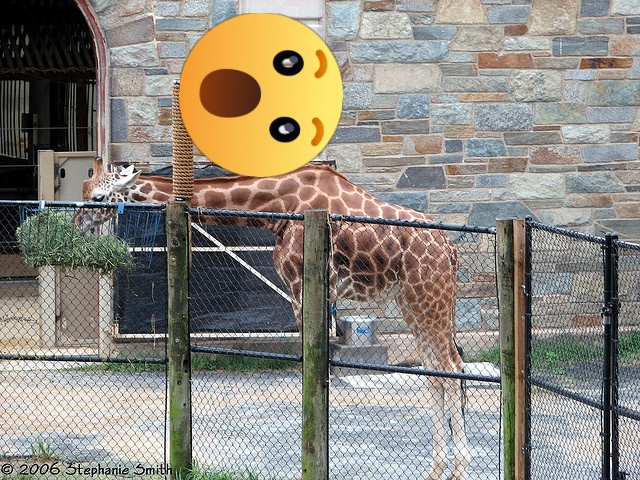wow: (179, 13, 343, 177)
